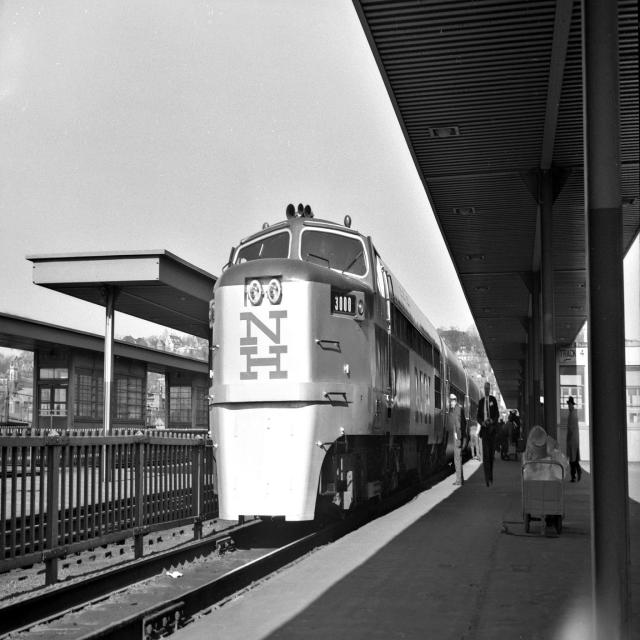body: (476, 382, 501, 488), (448, 393, 468, 487), (566, 395, 582, 483), (500, 420, 518, 460), (468, 419, 482, 463), (514, 414, 526, 462), (473, 416, 484, 463), (499, 408, 522, 428), (500, 435, 510, 463), (511, 427, 517, 443)
